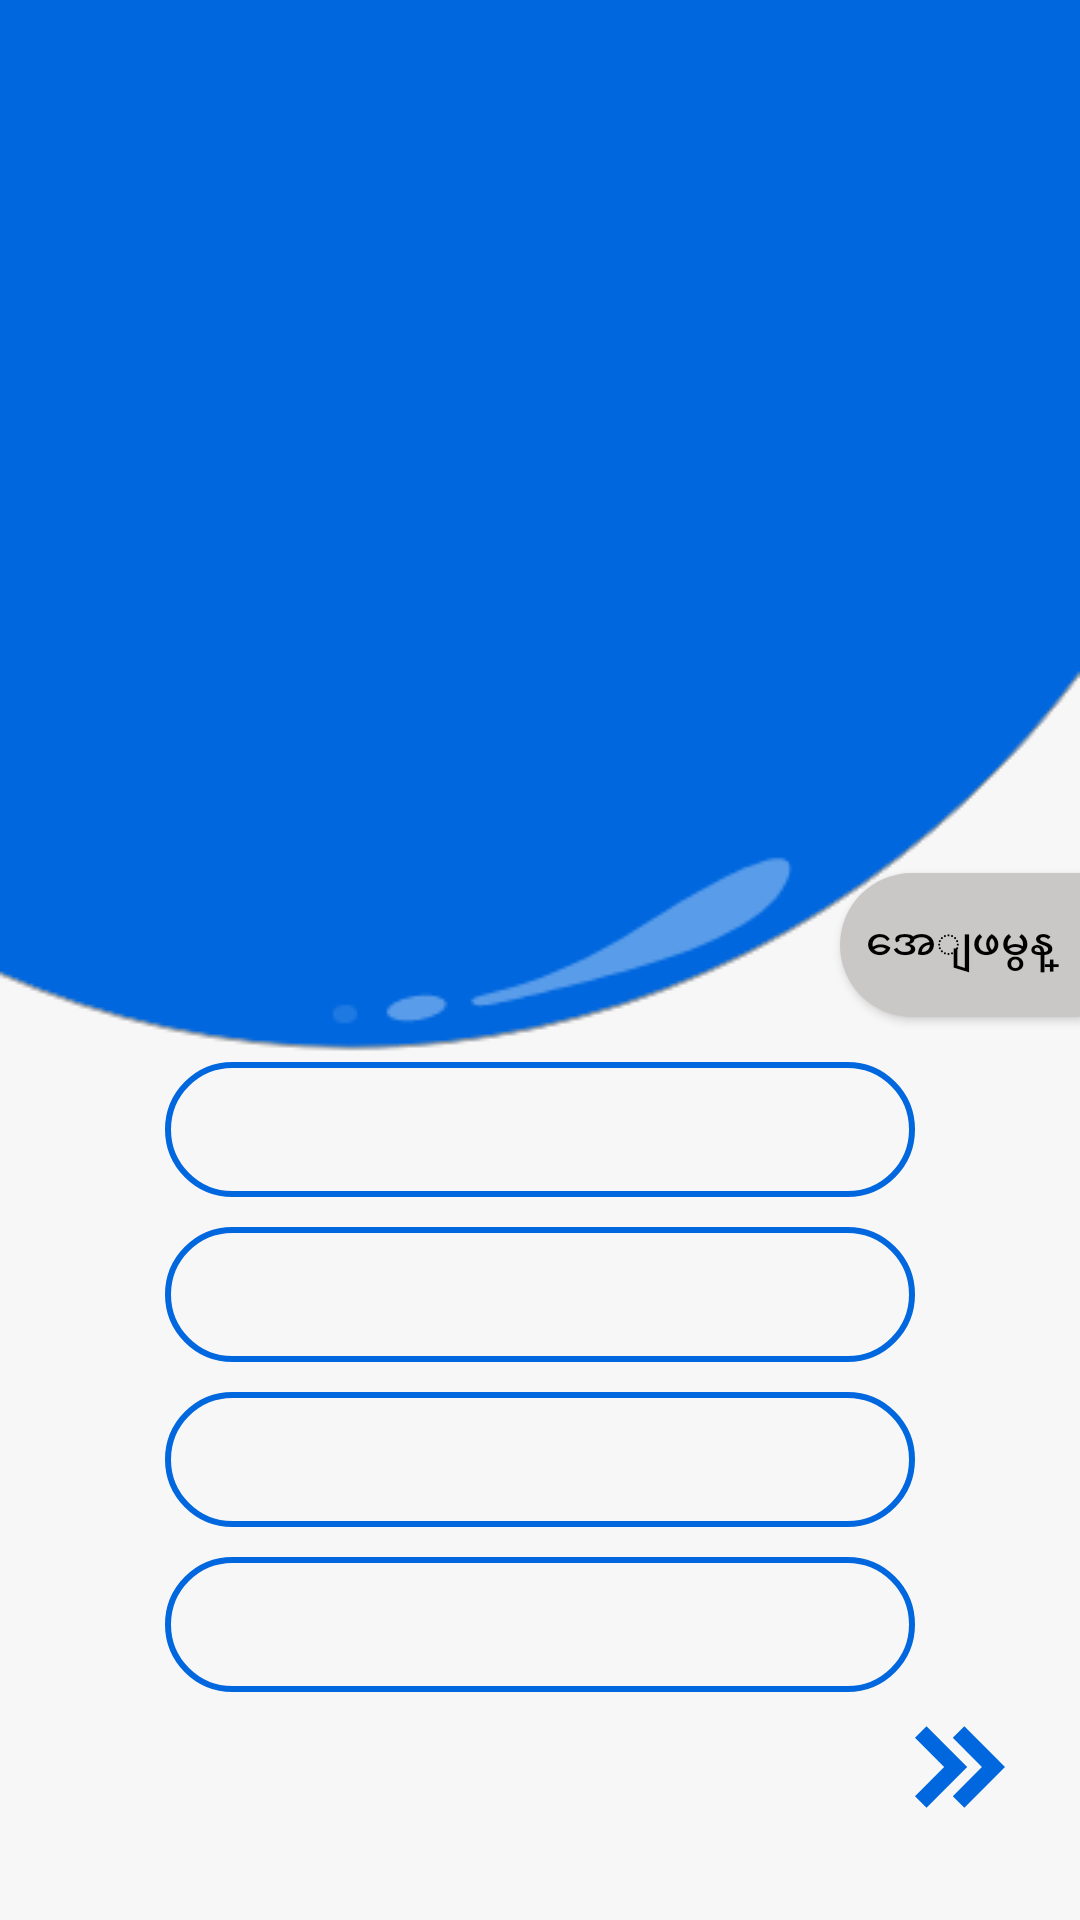

Where icons sit on this 1080 x 1920 app screen, as BBox(x1, y1, x2, y2):
next: BBox(915, 1726, 1005, 1808)
